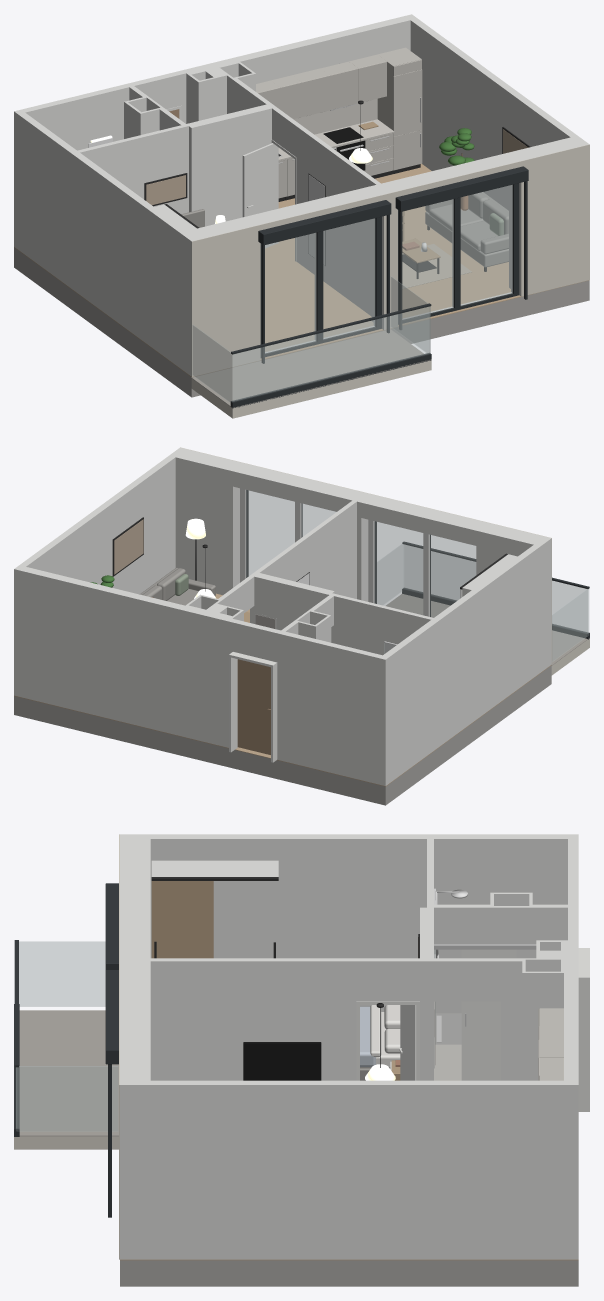
File: alloggio_bilocale_M.glb
3 renders of one model, top to bottom at view 1: azimuth 30°, elevation 25°; view 2: azimuth 150°, elevation 25°; view 3: azimuth 270°, elevation 25°, orthographic. The views are drawn at different scales.
Parts seen in each view (by area): view 1: 1_Muri e solai/muro_003, 4_Arredo M soggiorno/M soggiorno - cucina lineare 345, 1_Muri e solai/pavimento_rovere_0, 1_Muri e solai/muro_007, 2_Serramenti e porte/F7_S_1_vetro, 2_Serramenti e porte/F7_S_0_vetro, 3_Balcone/balcone_vetro, 1_Muri e solai/muro_pelle.003, 1_Muri e solai/muro_pelle.008, 1_Muri e solai/solaio_0, 1_Muri e solai/muro_024, 3_Balcone/balcone_gres (+43 smaller); view 2: 1_Muri e solai/muro_002, 1_Muri e solai/muro_003, 1_Muri e solai/muro_000, 1_Muri e solai/solaio_0, 1_Muri e solai/muro_007, 1_Muri e solai/muro_030, 2_Serramenti e porte/F7_S_0_vetro, 1_Muri e solai/muro_021, 1_Muri e solai/muro_024, 3_Balcone/balcone_vetro, 2_Serramenti e porte/F7_S_1_vetro, 1_Muri e solai/muro_026 (+19 smaller); view 3: 1_Muri e solai/muro_007, 1_Muri e solai/muro_003, 1_Muri e solai/muro_024, 4_Arredo M camera/M camera - armadio 180x60 su D2, 1_Muri e solai/solaio_0, 3_Balcone/balcone_gres, 3_Balcone/balcone_vetro_lato.001, 3_Balcone/balcone_vetro_lato, 2_Serramenti e porte/porta_P9_anta, 1_Muri e solai/muro_002, 4_Arredo M soggiorno/M soggiorno - mobile TV 160x40 su trame, 1_Muri e solai/muro_018 (+29 smaller).
Part boxes in pixels (x1=…): 1_Muri e solai/muro_003: x1=18, y1=112, x2=198, y2=376; 4_Arredo M soggiorno/M soggiorno - cucina lineare 345: x1=256, y1=47, x2=422, y2=201; 1_Muri e solai/pavimento_rovere_0: x1=14, y1=163, x2=589, y2=377; 1_Muri e solai/muro_007: x1=410, y1=18, x2=589, y2=210; 2_Serramenti e porte/F7_S_1_vetro: x1=402, y1=185, x2=512, y2=312; 2_Serramenti e porte/F7_S_0_vetro: x1=265, y1=218, x2=375, y2=352; 3_Balcone/balcone_vetro: x1=233, y1=306, x2=429, y2=401; 1_Muri e solai/muro_pelle.003: x1=199, y1=224, x2=260, y2=374; 1_Muri e solai/muro_pelle.008: x1=521, y1=146, x2=582, y2=296; 1_Muri e solai/solaio_0: x1=14, y1=247, x2=589, y2=397; 1_Muri e solai/muro_024: x1=296, y1=125, x2=392, y2=316; 3_Balcone/balcone_gres: x1=192, y1=329, x2=431, y2=407; 1_Muri e solai/muro_002: x1=14, y1=566, x2=236, y2=747; 1_Muri e solai/muro_003: x1=383, y1=536, x2=551, y2=782; 1_Muri e solai/muro_000: x1=277, y1=630, x2=389, y2=785; 1_Muri e solai/solaio_0: x1=14, y1=665, x2=551, y2=805; 1_Muri e solai/muro_007: x1=19, y1=447, x2=186, y2=594; 1_Muri e solai/muro_030: x1=175, y1=449, x2=243, y2=595; 2_Serramenti e porte/F7_S_0_vetro: x1=374, y1=521, x2=475, y2=617; 1_Muri e solai/muro_021: x1=250, y1=573, x2=433, y2=655; 1_Muri e solai/muro_024: x1=278, y1=492, x2=367, y2=598; 3_Balcone/balcone_vetro: x1=404, y1=545, x2=587, y2=632; 2_Serramenti e porte/F7_S_1_vetro: x1=246, y1=490, x2=335, y2=577; 1_Muri e solai/muro_026: x1=361, y1=494, x2=486, y2=545; 1_Muri e solai/muro_007: x1=120, y1=1080, x2=563, y2=1259; 1_Muri e solai/muro_003: x1=120, y1=834, x2=567, y2=1013; 1_Muri e solai/muro_024: x1=120, y1=958, x2=356, y2=1080; 4_Arredo M camera/M camera - armadio 180x60 su D2: x1=151, y1=860, x2=278, y2=958; 1_Muri e solai/solaio_0: x1=120, y1=1260, x2=578, y2=1286; 3_Balcone/balcone_gres: x1=19, y1=1010, x2=118, y2=1136; 3_Balcone/balcone_vetro_lato.001: x1=16, y1=1066, x2=117, y2=1131; 3_Balcone/balcone_vetro_lato: x1=19, y1=941, x2=105, y2=1006; 2_Serramenti e porte/porta_P9_anta: x1=461, y1=949, x2=516, y2=1080; 1_Muri e solai/muro_002: x1=568, y1=937, x2=578, y2=1259; 4_Arredo M soggiorno/M soggiorno - mobile TV 160x40 su trame: x1=243, y1=1042, x2=321, y2=1080; 1_Muri e solai/muro_018: x1=434, y1=958, x2=500, y2=1001.
Bounding box in the file's own units: 8.4 × 3.15 × 8.16.
